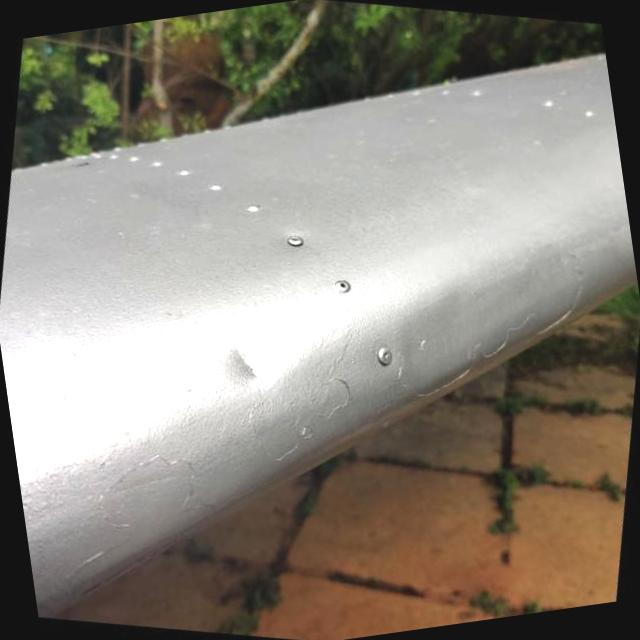dent: (208, 325, 282, 411)
